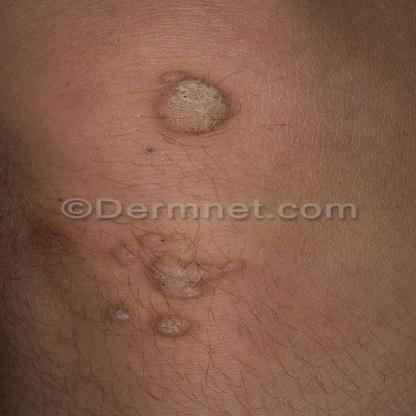Warts: (99, 223, 250, 347), (136, 58, 244, 141)
